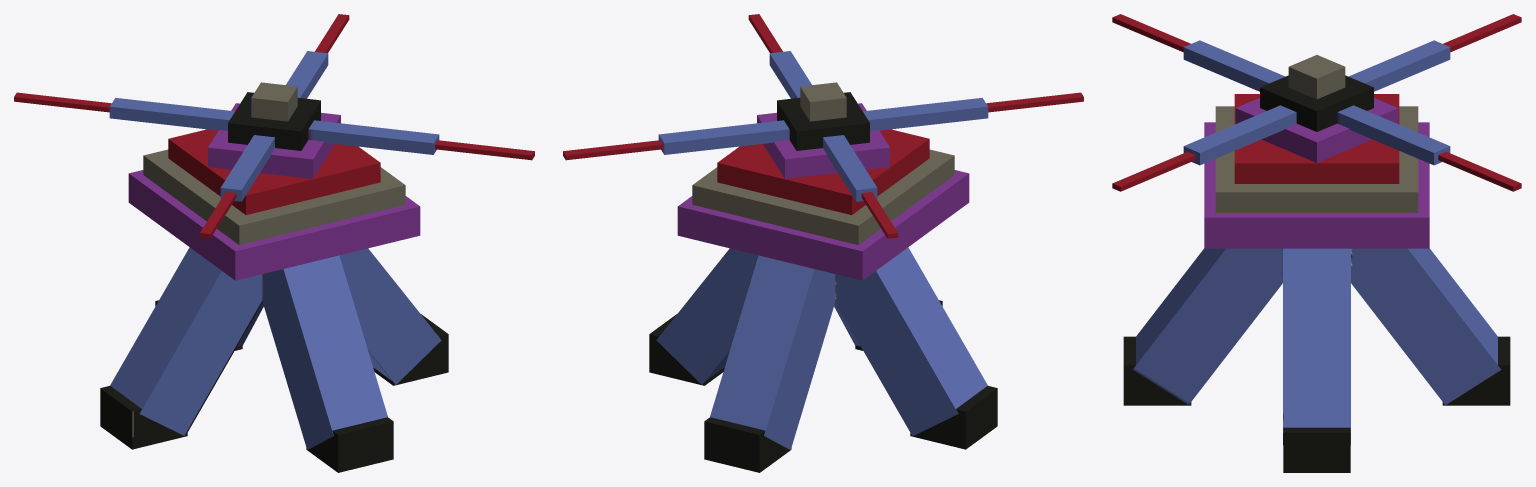
The model's file is ichi_phase1.fbx.
3 renders of one model, left to right at view 1: azimuth 30°, elevation 25°; view 2: azimuth 150°, elevation 25°; view 3: azimuth 270°, elevation 25°, orthographic. The views are drawn at different scales.
Visible parts, largest first — view 1: Cube.014; view 2: Cube.014; view 3: Cube.014.
Part boxes in pixels (x1=…): Cube.014: x1=14, y1=14, x2=534, y2=472; Cube.014: x1=563, y1=14, x2=1083, y2=472; Cube.014: x1=1112, y1=14, x2=1521, y2=472.
Size of the model in its own units: 359 by 315 by 359.
